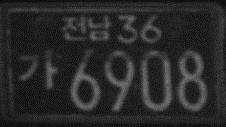0: (139, 49, 172, 112)
3: (116, 13, 138, 43)
6: (69, 47, 102, 111), (140, 12, 162, 43)
8: (177, 49, 207, 112)
9: (103, 49, 135, 112)
가: (17, 49, 58, 89)
전남_O: (60, 13, 111, 41)
